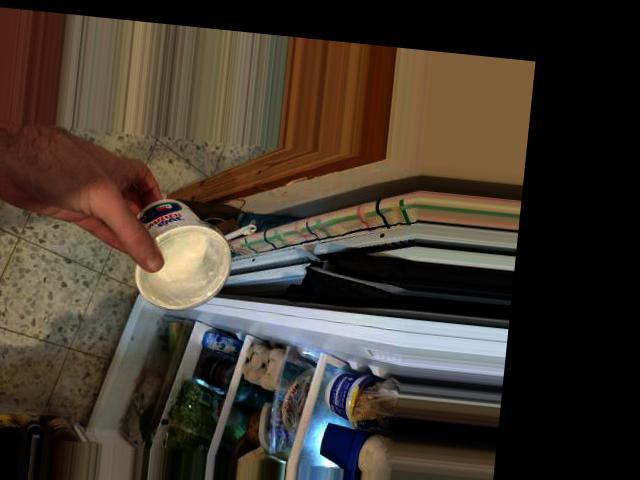cotage: (120, 187, 243, 312)
